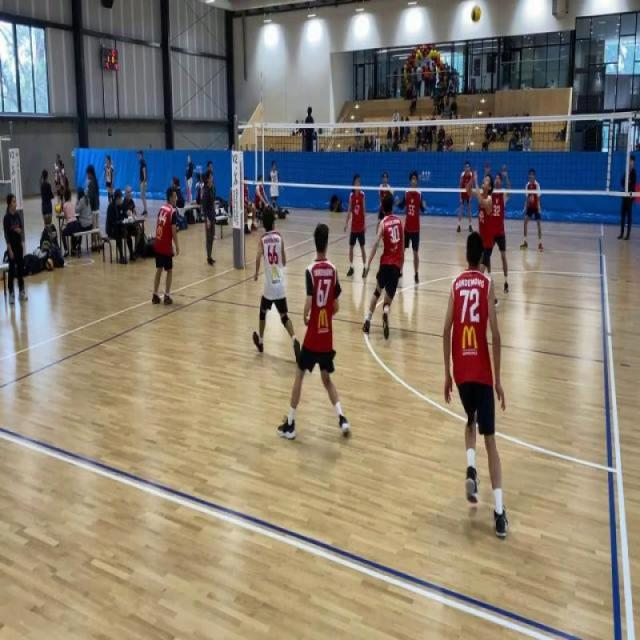volleyball: (470, 4, 482, 23), (46, 257, 54, 272), (54, 203, 61, 214), (148, 234, 152, 240)
